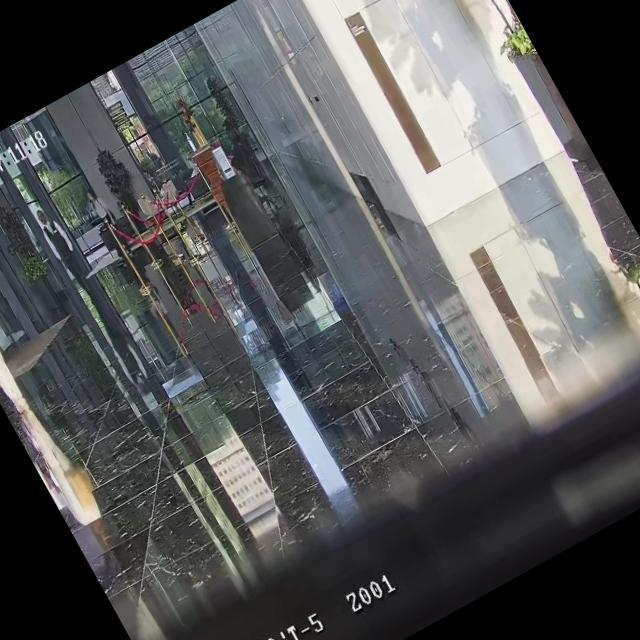person: (0, 253, 77, 486), (33, 202, 100, 303), (82, 184, 140, 268), (214, 120, 262, 186)
